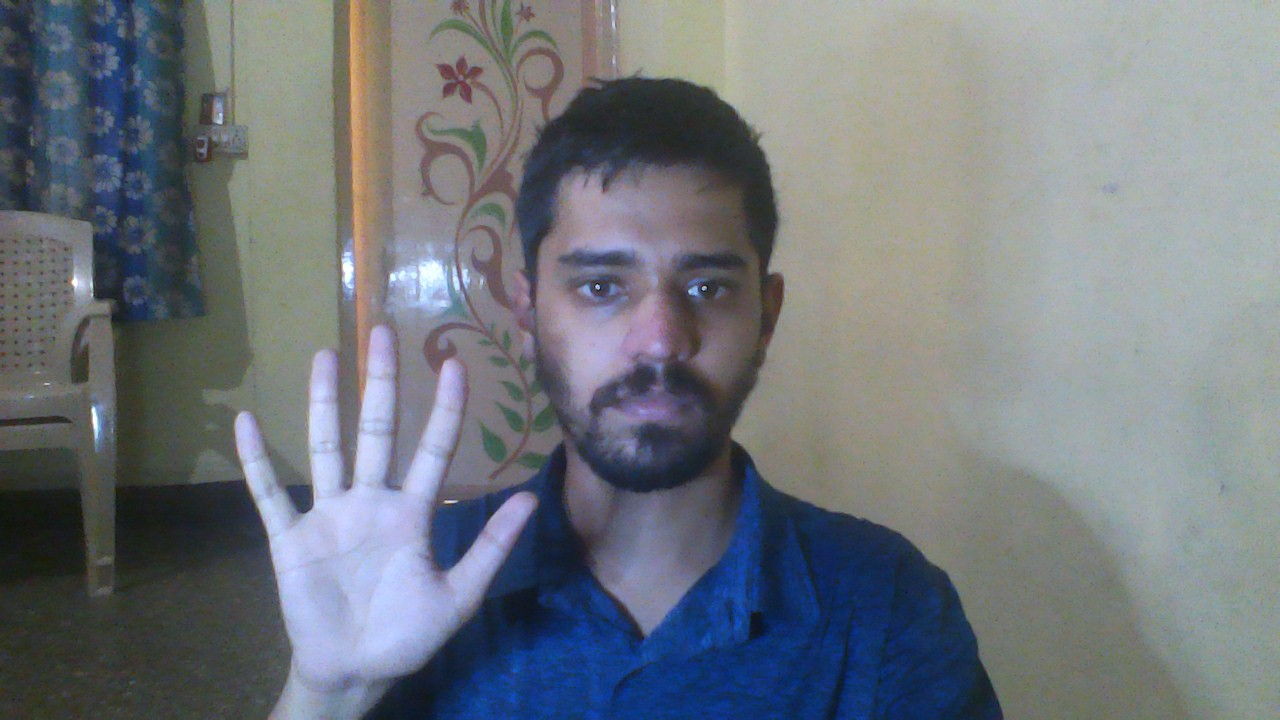hello: (202, 294, 548, 701)
